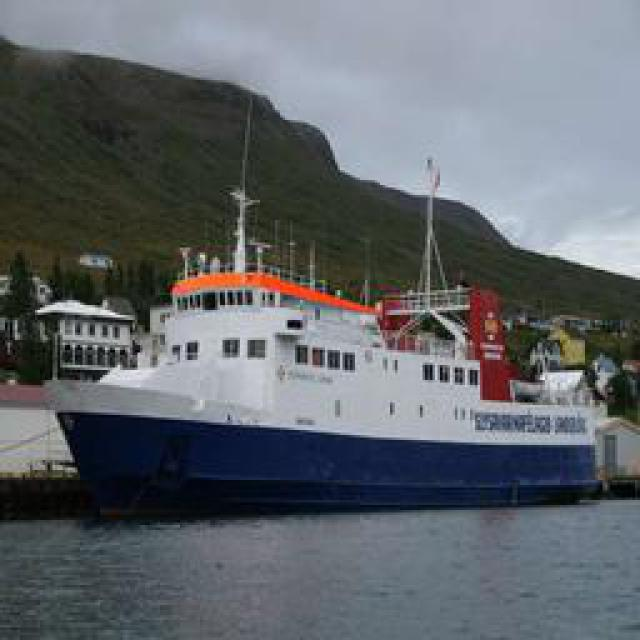Ship: (34, 136, 629, 514)
